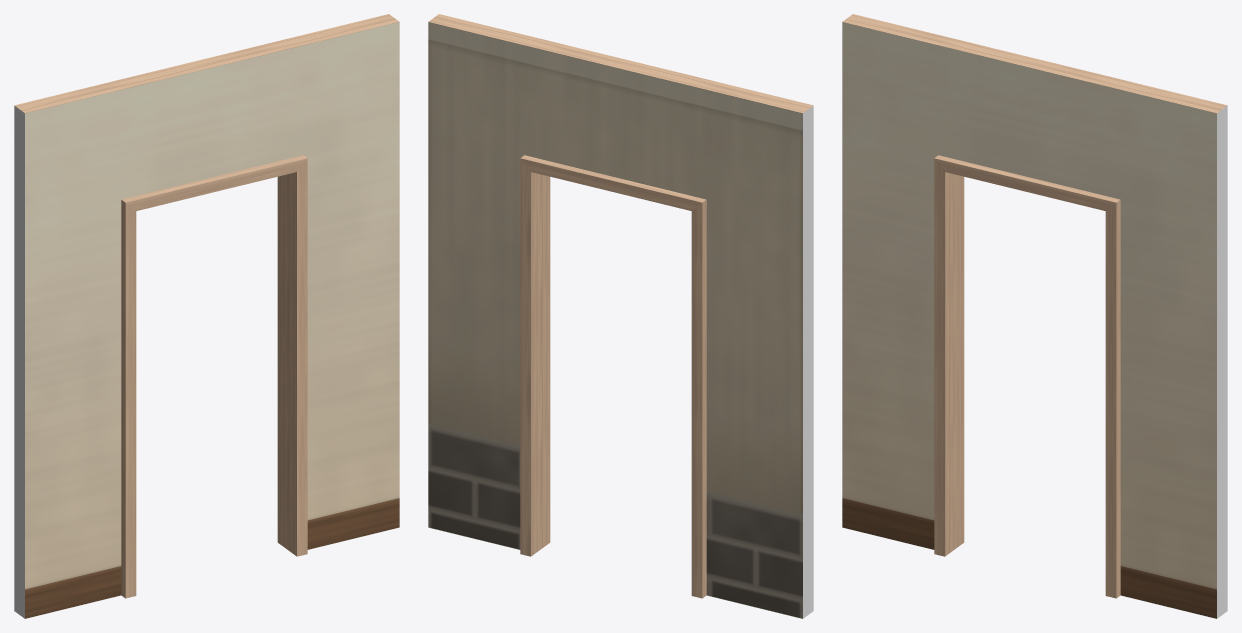
Rendered from wallDoorway.glb.
3 renders of one model, left to right at view 1: azimuth 30°, elevation 25°; view 2: azimuth 150°, elevation 25°; view 3: azimuth 330°, elevation 25°, orthographic.
Visible parts, largest first — view 1: wallDoorway; view 2: wallDoorway; view 3: wallDoorway.
Part boxes in pixels (left/top/right/bottom): wallDoorway: left=14, top=14, right=399, bottom=618; wallDoorway: left=428, top=14, right=813, bottom=618; wallDoorway: left=842, top=14, right=1227, bottom=618.
Bounding box in the file's own units: 1 × 1.29 × 0.0891.
Materials: 4 (3 with a texture image).
